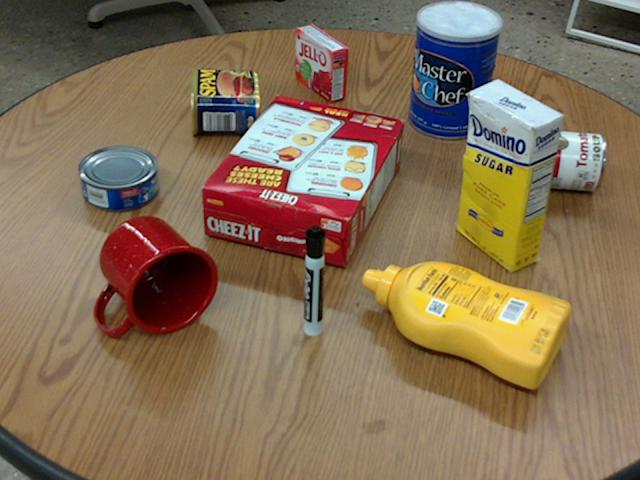cracker_box: (200, 96, 402, 266)
gelatin_box: (296, 24, 347, 100)
large_marker: (302, 224, 324, 335)
master_chef_can: (409, 1, 501, 138)
mug: (93, 216, 216, 333)
mustard_bottle: (362, 261, 569, 387)
potted_meat_can: (190, 66, 258, 133)
sugar_box: (458, 79, 561, 272)
tomato_soup_can: (505, 126, 603, 189)
tuna_fish_can: (77, 144, 157, 209)
